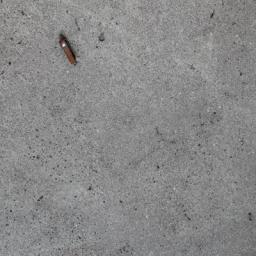FOD: (56, 34, 81, 69)
